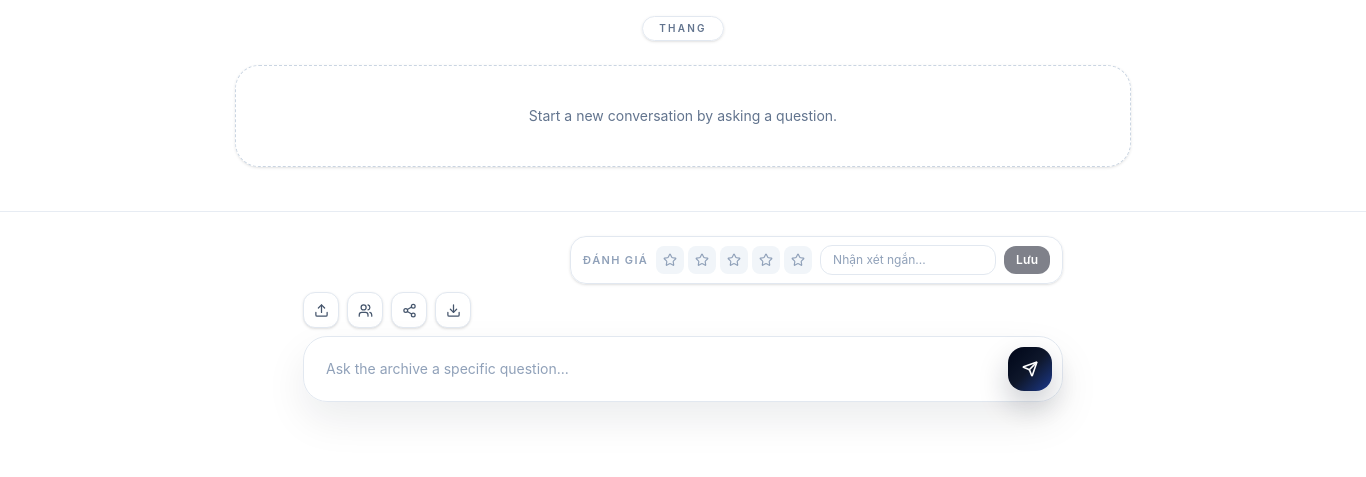
Scenario: ChatPanel conversation evaluation › saves a new conversation evaluation from the chat input area
Click the button named "Đánh giá 5 sao" at (798, 260), box [784,246,812,274]
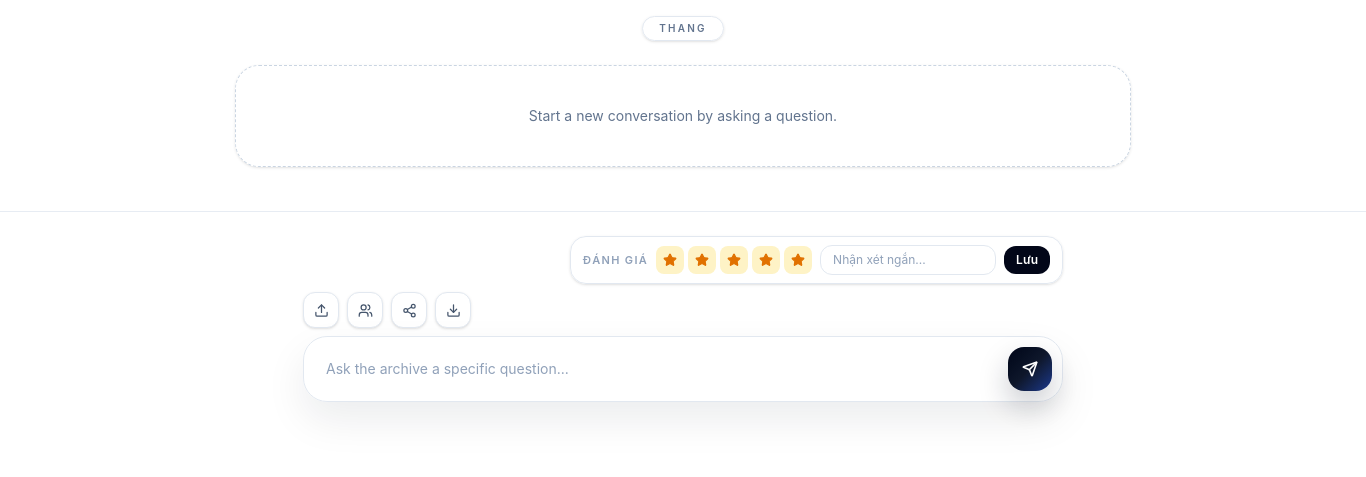
Type "Useful" into the field with placeholder "Nhận xét ngắn..." at (908, 260), box [820,245,996,275]
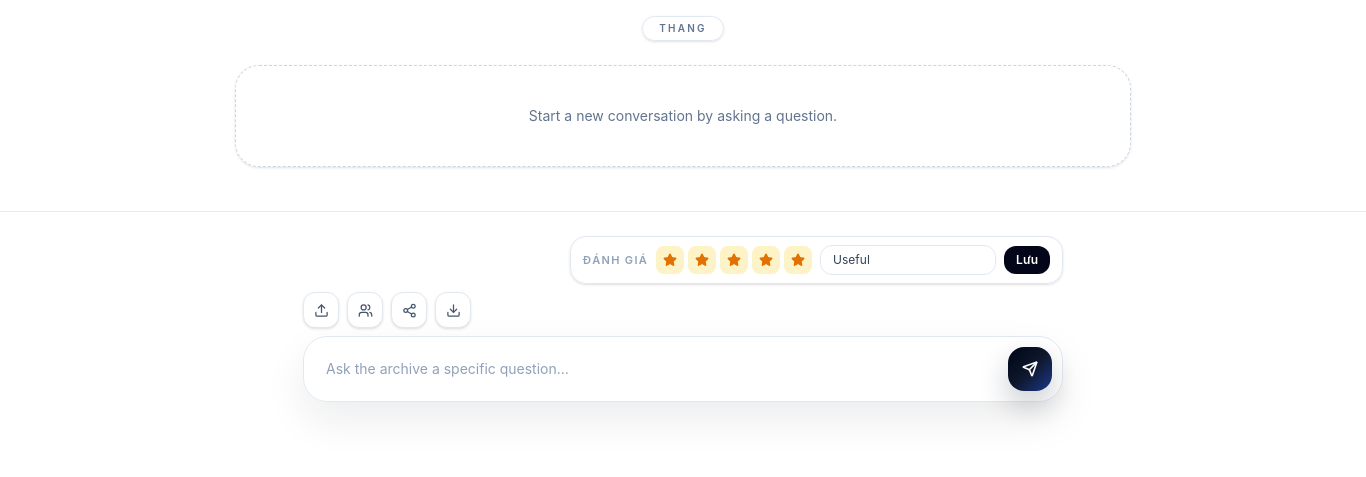
Click the button "Lưu" at (1027, 260), box [1004,246,1050,274]
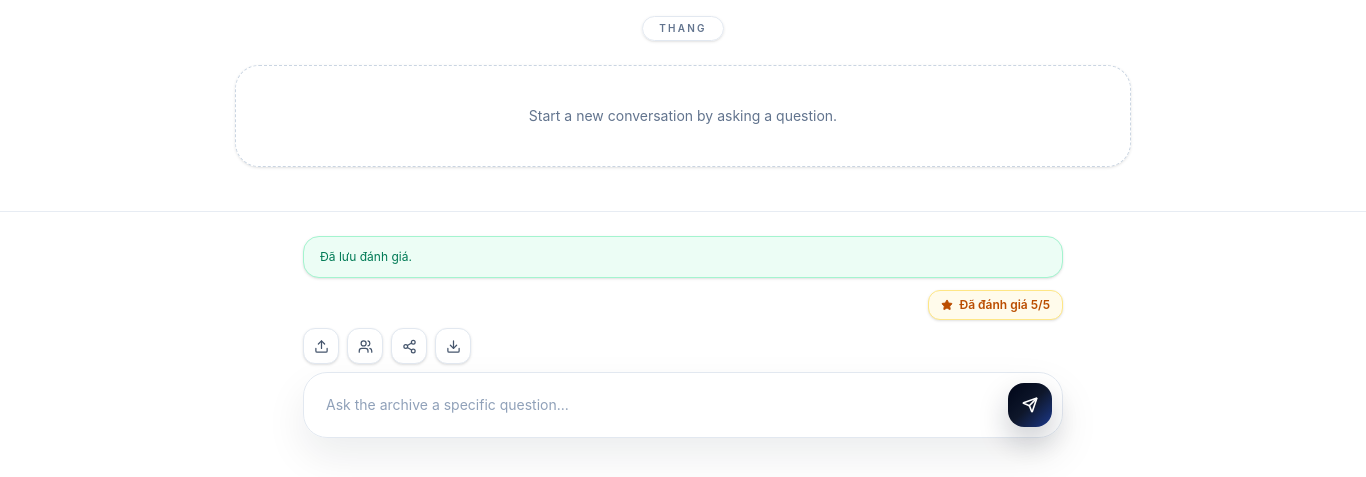
Expected: the text "Đã lưu đánh giá." is shown, [320,249,412,265]
